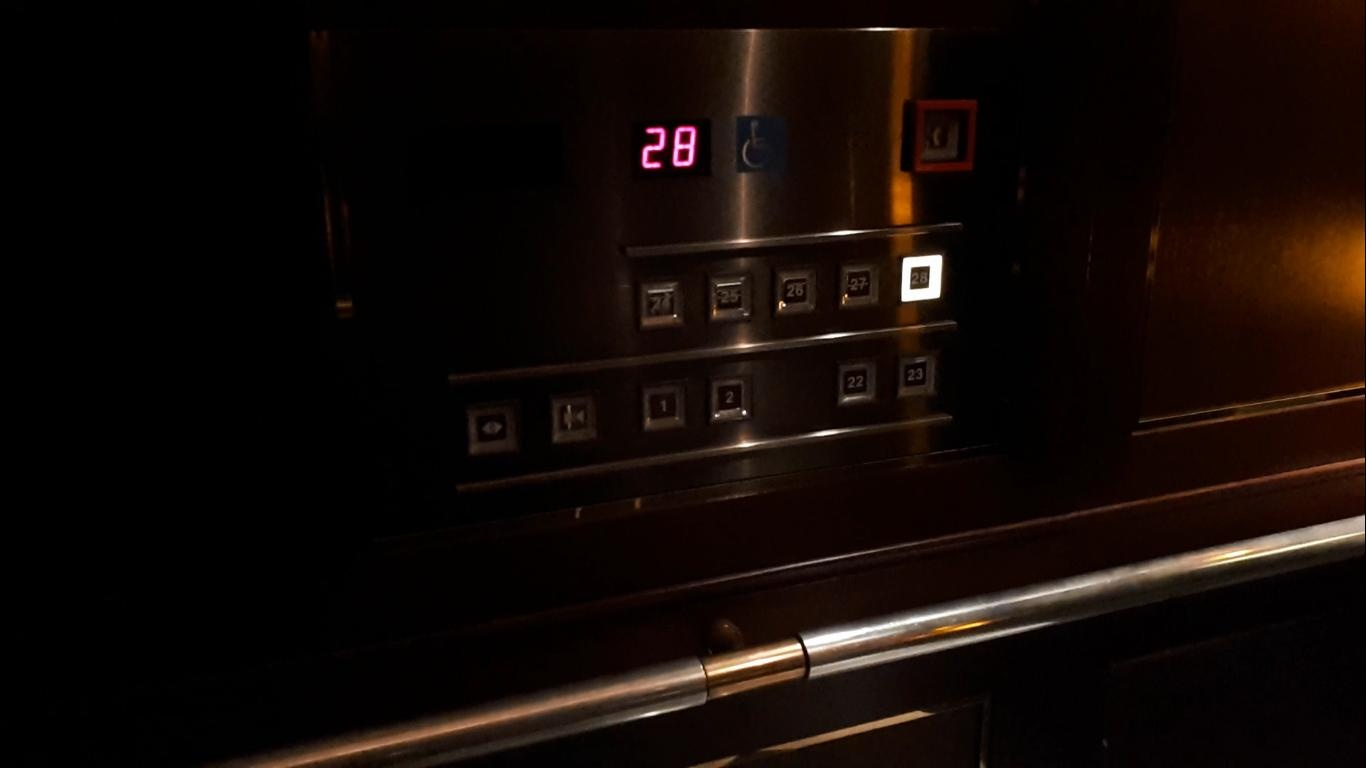1: (642, 380, 688, 432)
2: (705, 374, 751, 422)
22: (834, 358, 878, 405)
23: (895, 354, 939, 401)
24: (637, 276, 687, 329)
25: (704, 272, 754, 325)
26: (771, 266, 821, 319)
27: (835, 259, 885, 312)
28: (897, 251, 947, 304)
CH: (734, 114, 788, 171)
bt_keyhole: (903, 95, 984, 176)
close: (553, 392, 599, 444)
led: (628, 117, 713, 180)
open: (468, 404, 514, 456)
